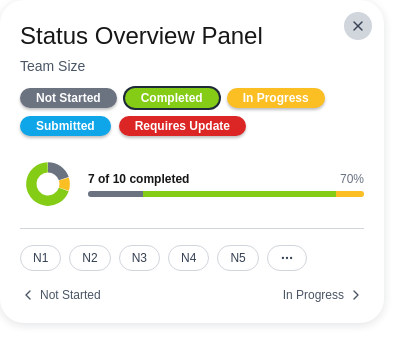
Test: StatusOverviewPanel › pages to the neighbouring statuses
# Completed sits between Not Started and In Progress
Click the 2nd button "In Progress" at [323, 295], box x1=283 y1=287 x2=364 y2=303
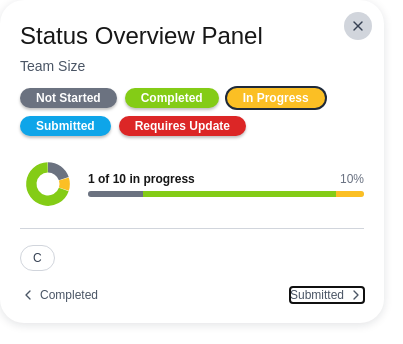
Result: the text "C" is shown at x1=20 y1=245 x2=55 y2=271
